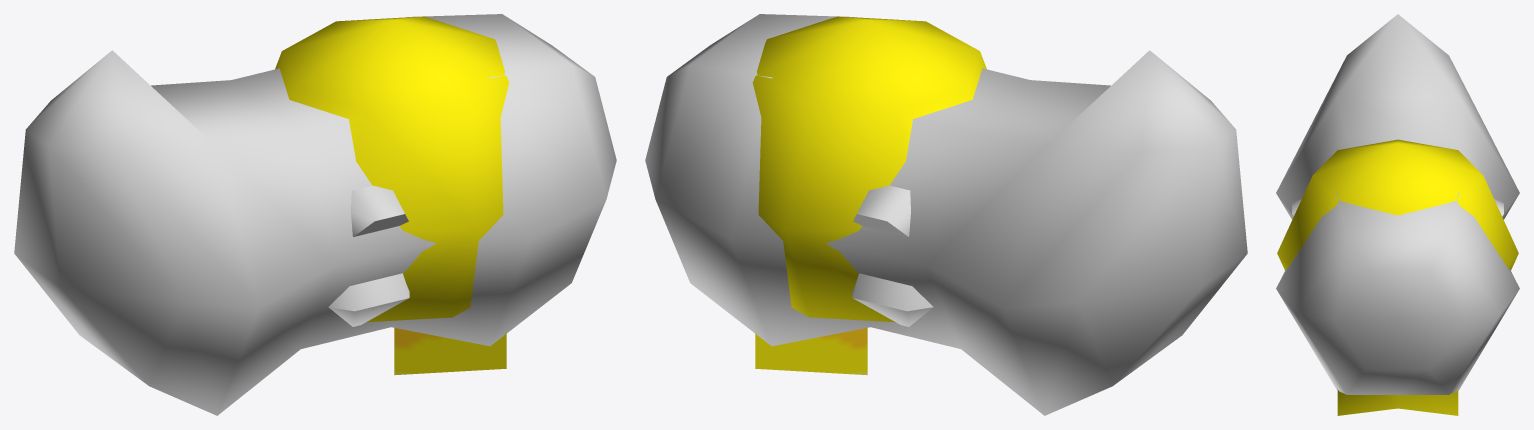
Rendered from dog_export.fbx.
3 renders of one model, left to right at view 1: azimuth 30°, elevation 25°; view 2: azimuth 150°, elevation 25°; view 3: azimuth 270°, elevation 25°, orthographic. The views are drawn at different scales.
Parts seen in each view (by area): view 1: body001, head001, ear_l001, ear_l002; view 2: body001, head001, ear_l002, ear_l001; view 3: body001, head001.
Part boxes in pixels (bbox=[...]): body001: bbox=[14, 14, 616, 415]; head001: bbox=[275, 16, 509, 375]; ear_l001: bbox=[328, 273, 409, 326]; ear_l002: bbox=[351, 185, 408, 236]; body001: bbox=[645, 14, 1247, 415]; head001: bbox=[752, 16, 986, 375]; ear_l002: bbox=[852, 273, 933, 326]; ear_l001: bbox=[853, 185, 910, 236]; body001: bbox=[1276, 14, 1519, 394]; head001: bbox=[1277, 139, 1518, 415].
Size of the model in its own units: 35.63 by 25.01 by 19.11.
